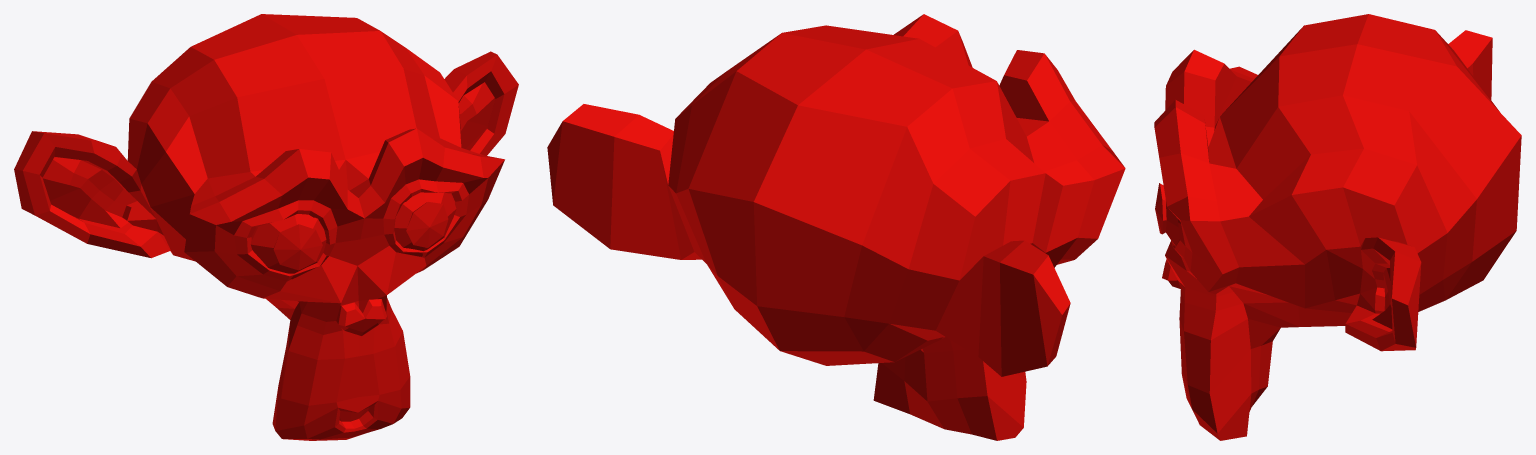
The model's file is jar-test-animated.glb.
The picture shows the model from 3 angles, left to right: view 1: azimuth 30°, elevation 25°; view 2: azimuth 150°, elevation 25°; view 3: azimuth 270°, elevation 25°; orthographic projection. The views are drawn at different scales.
Visible parts, largest first — view 1: Suzanne; view 2: Suzanne; view 3: Suzanne.
Boxes of the visible parts, x1,y1,x2,y2 form: Suzanne: (14,14,518,440); Suzanne: (547,14,1125,440); Suzanne: (1154,14,1521,440).
Bounding box in the file's own units: 2.71 × 1.97 × 1.72.
